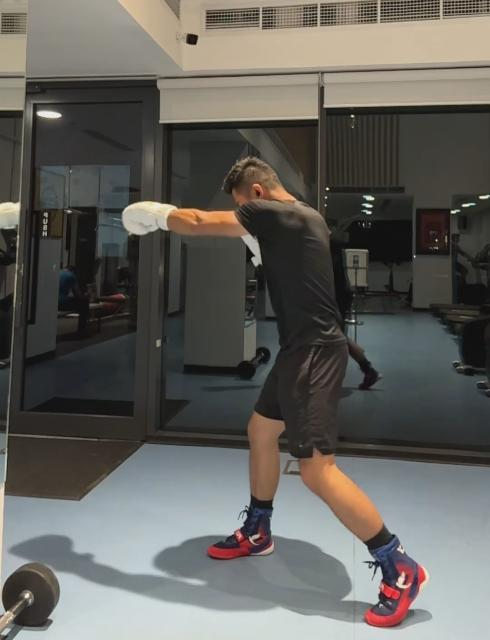punch: (119, 153, 430, 631)
